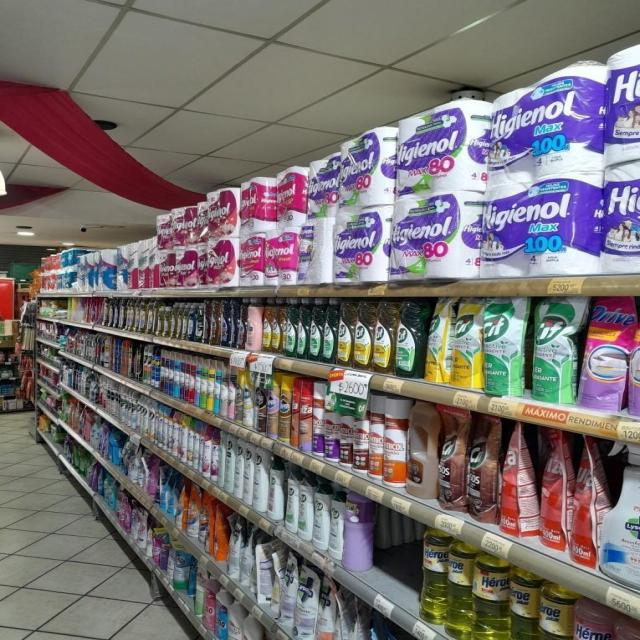ala_conc_amarillo: (215, 298, 221, 346)
ala_conc_azul: (224, 298, 234, 348)
ala_conc_rojo: (247, 297, 260, 351), (230, 297, 238, 349)
cif_conc_bot_amarilla: (374, 300, 396, 374), (354, 299, 373, 370), (338, 298, 353, 367), (262, 297, 274, 352), (270, 297, 281, 353)
cif_conc_botella_verde: (396, 298, 424, 378), (323, 297, 336, 364), (309, 298, 322, 362), (283, 297, 296, 357), (297, 298, 308, 360)
cif_conc_sachet_amarillo: (452, 297, 482, 389), (426, 298, 447, 383)
cif_conc_sachet_verde: (531, 296, 579, 404), (484, 296, 527, 396)
esencial: (345, 491, 374, 572)
heroe: (574, 600, 612, 640), (614, 617, 640, 640)
magistral_con_amarillo: (136, 300, 144, 334), (156, 302, 163, 336)
